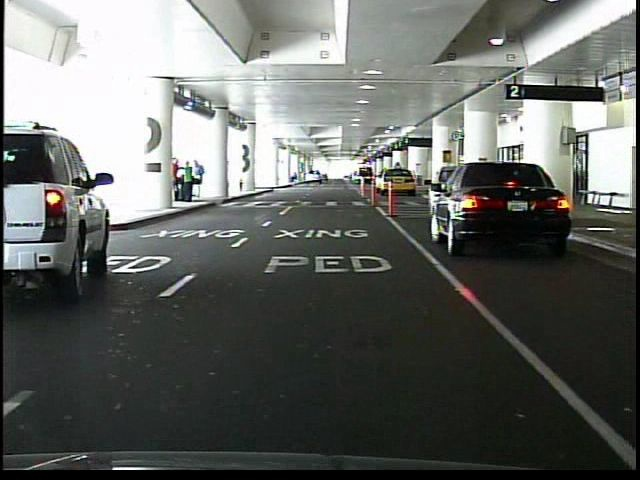person: (182, 160, 195, 203), (194, 160, 206, 199)
